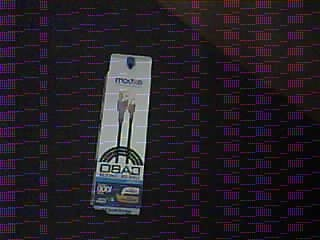paper: (91, 55, 154, 215)
